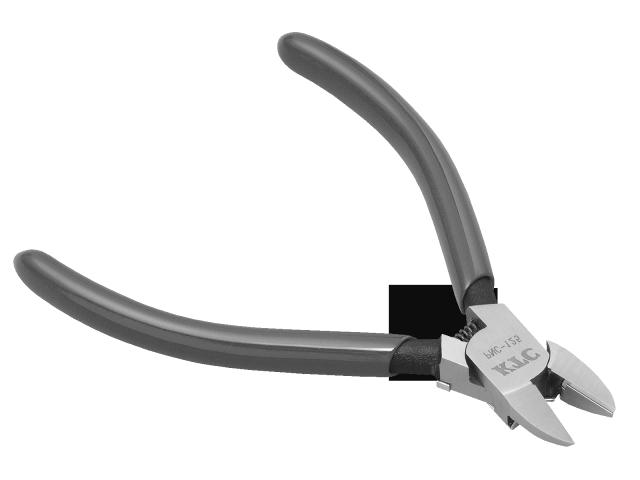Cutting pliers: (14, 32, 615, 446)
